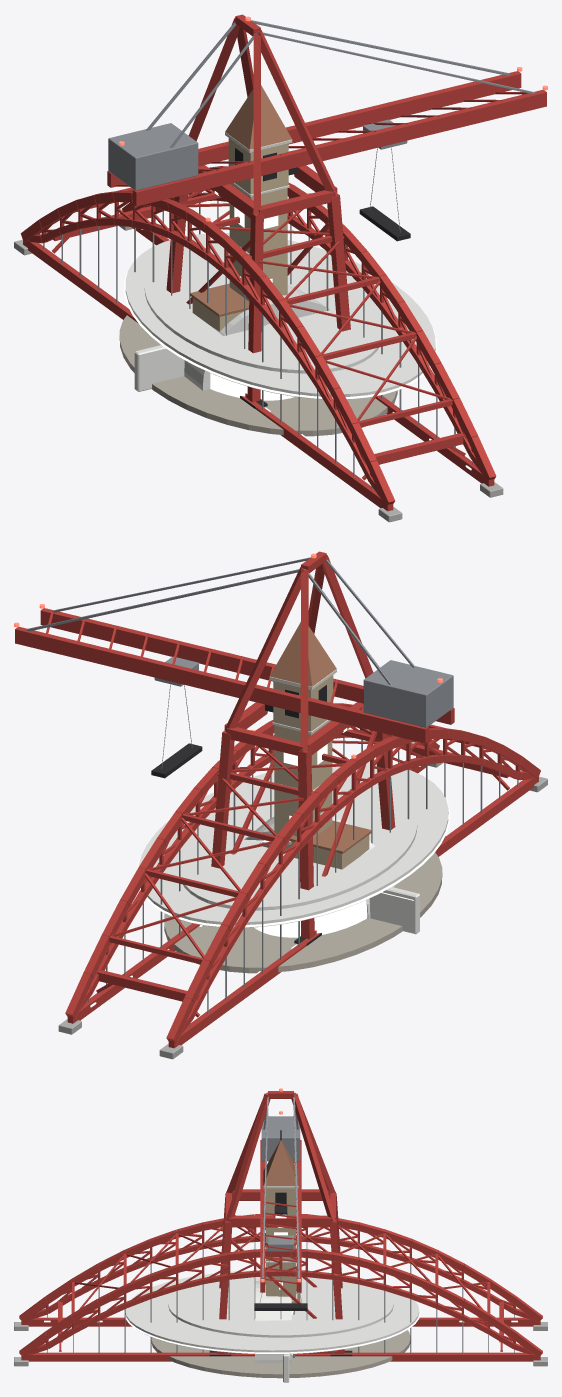
The model's file is calder_kit.glb.
3 renders of one model, top to bottom at view 1: azimuth 30°, elevation 25°; view 2: azimuth 150°, elevation 25°; view 3: azimuth 270°, elevation 25°, orthographic. The views are drawn at different scales.
Visible parts, largest first — view 1: roof2, roof.002, boom1, podium, boom-1, house, tie-1.001, shaft, roof, apexleg21, wing-1, leg11 (+20 smaller); view 2: roof2, roof.002, podium, boom-1, house, boom1, tie-1.001, shaft, roof, wing-1, apexleg2-1, leg-1-1 (+19 smaller); view 3: roof2, roof.002, podium, tie1.001, tie-1.001, house, portal1, roof, apexleg2-1, apexleg21, shaft, edge (+12 smaller).
Boxes of the visible parts, <box> form: roof2: <box>144,246,381,373</box>; roof.002: <box>125,233,435,399</box>; boom1: <box>132,90,546,206</box>; podium: <box>119,315,397,436</box>; boom-1: <box>107,71,521,187</box>; house: <box>108,123,198,190</box>; tie-1.001: <box>23,240,393,511</box>; shaft: <box>229,183,287,300</box>; roof: <box>225,85,292,149</box>; apexleg21: <box>253,30,337,195</box>; wing-1: <box>134,345,184,391</box>; leg11: <box>327,194,350,331</box>; roof2: <box>180,783,417,910</box>; roof.002: <box>138,762,448,927</box>; podium: <box>164,852,442,973</box>; boom-1: <box>15,627,429,743</box>; house: <box>363,660,453,727</box>; boom1: <box>40,608,454,724</box>; tie-1.001: <box>168,777,538,1048</box>; shaft: <box>274,720,332,849</box>; roof: <box>269,622,336,686</box>; wing-1: <box>369,887,419,934</box>; apexleg2-1: <box>224,567,304,732</box>; leg-1-1: <box>297,750,314,939</box>; roof2: <box>168,1277,393,1337</box>; roof.002: <box>125,1270,419,1354</box>; podium: <box>151,1330,410,1378</box>; tie1.001: <box>21,1352,540,1361</box>; tie-1.001: <box>21,1317,540,1326</box>; house: <box>261,1116,300,1161</box>; portal1: <box>229,1215,332,1227</box>; roof: <box>263,1140,298,1185</box>; apexleg2-1: <box>291,1093,336,1221</box>; apexleg21: <box>225,1093,270,1221</box>; shaft: <box>266,1227,295,1303</box>; edge: <box>124,1306,420,1353</box>.
Size of the model in its own units: 78.9 by 66.33 by 123.
